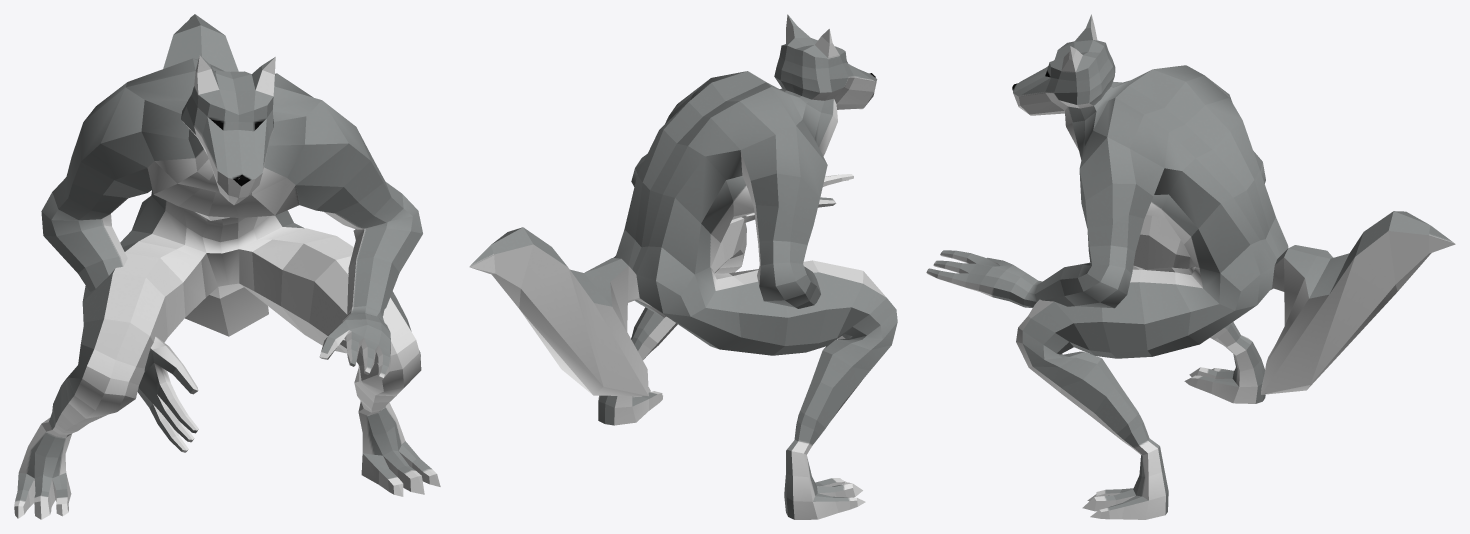
Rendered from WolfAttack(77).obj.
3 renders of one model, left to right at view 1: azimuth 30°, elevation 25°; view 2: azimuth 150°, elevation 25°; view 3: azimuth 270°, elevation 25°, orthographic. The views are drawn at different scales.
Parts seen in each view (by area): view 1: Box001; view 2: Box001; view 3: Box001.
Part boxes in pixels (box(x1,y1,x2,y2)): Box001: box(14, 14, 440, 519); Box001: box(469, 14, 897, 519); Box001: box(926, 14, 1455, 519).
Bounding box in the file's own units: 78.4 × 104 × 122.
